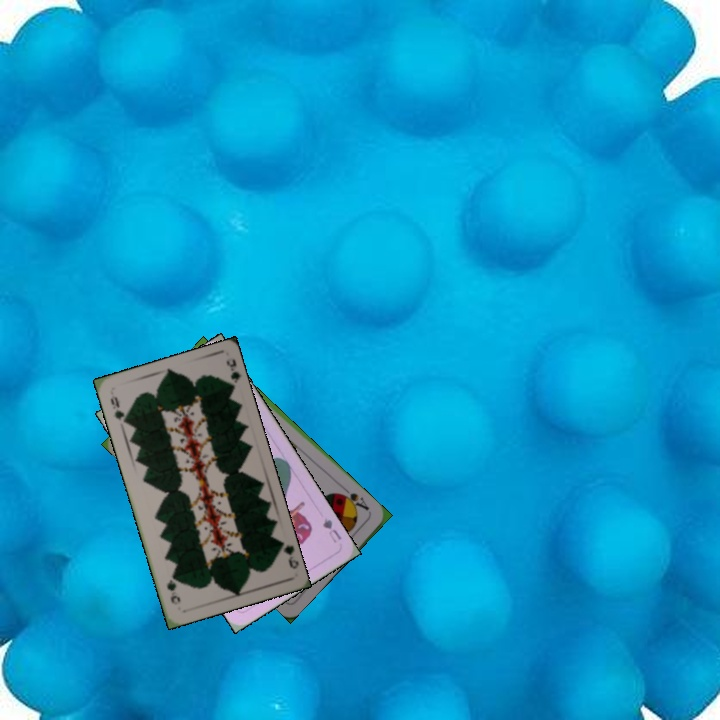G9: (274, 536, 300, 572), (106, 391, 131, 427)
GU: (319, 514, 344, 545)
SA: (336, 484, 372, 513)
